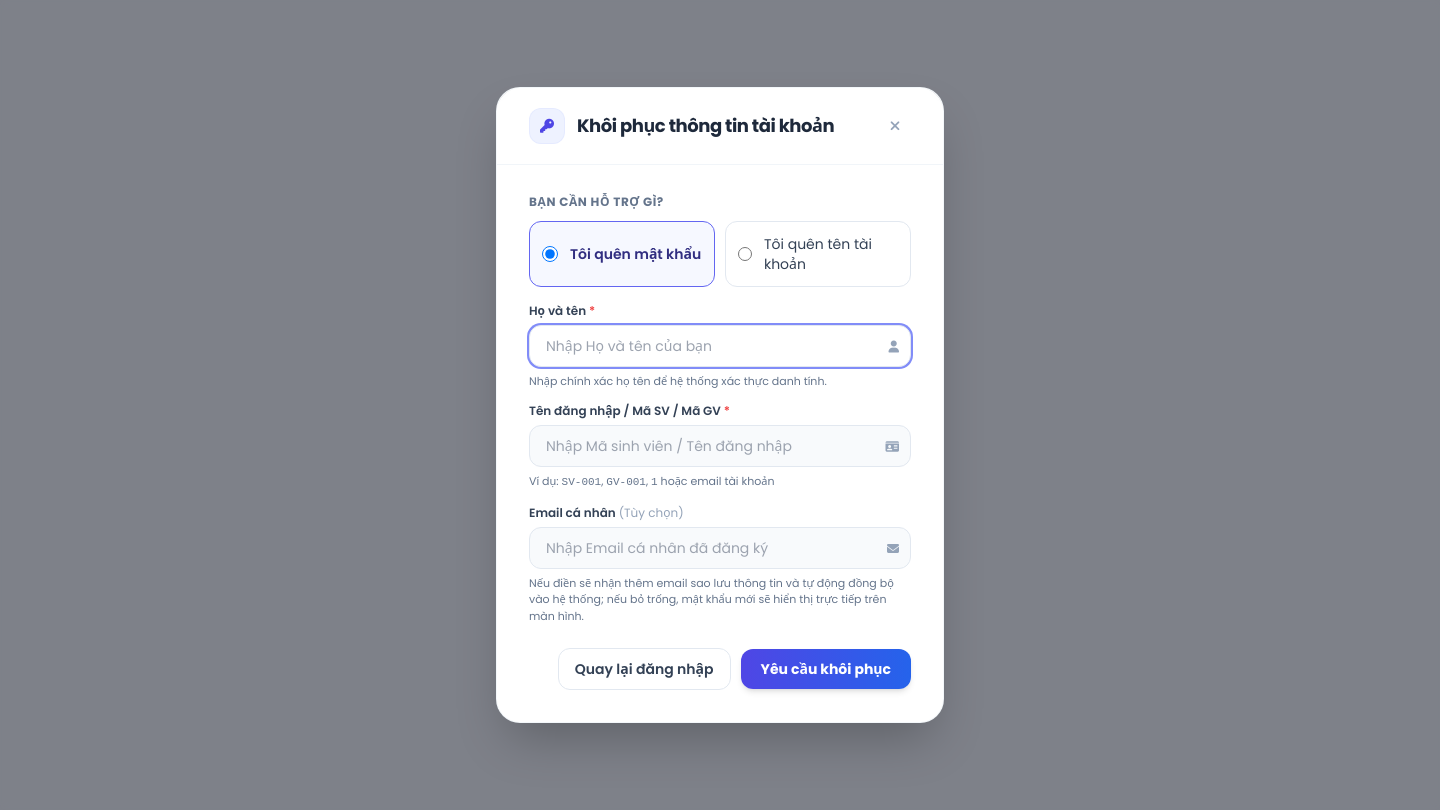
Test: ForgotPasswordModal › handles "Tôi quên mật khẩu" submission KHÔNG nhập Email: shows direct notification and 123 password
Type "Nguyễn Văn An" into the field with placeholder "Nhập Họ và tên của bạn". click: (720, 346)
box: 529,325 -> 911,367
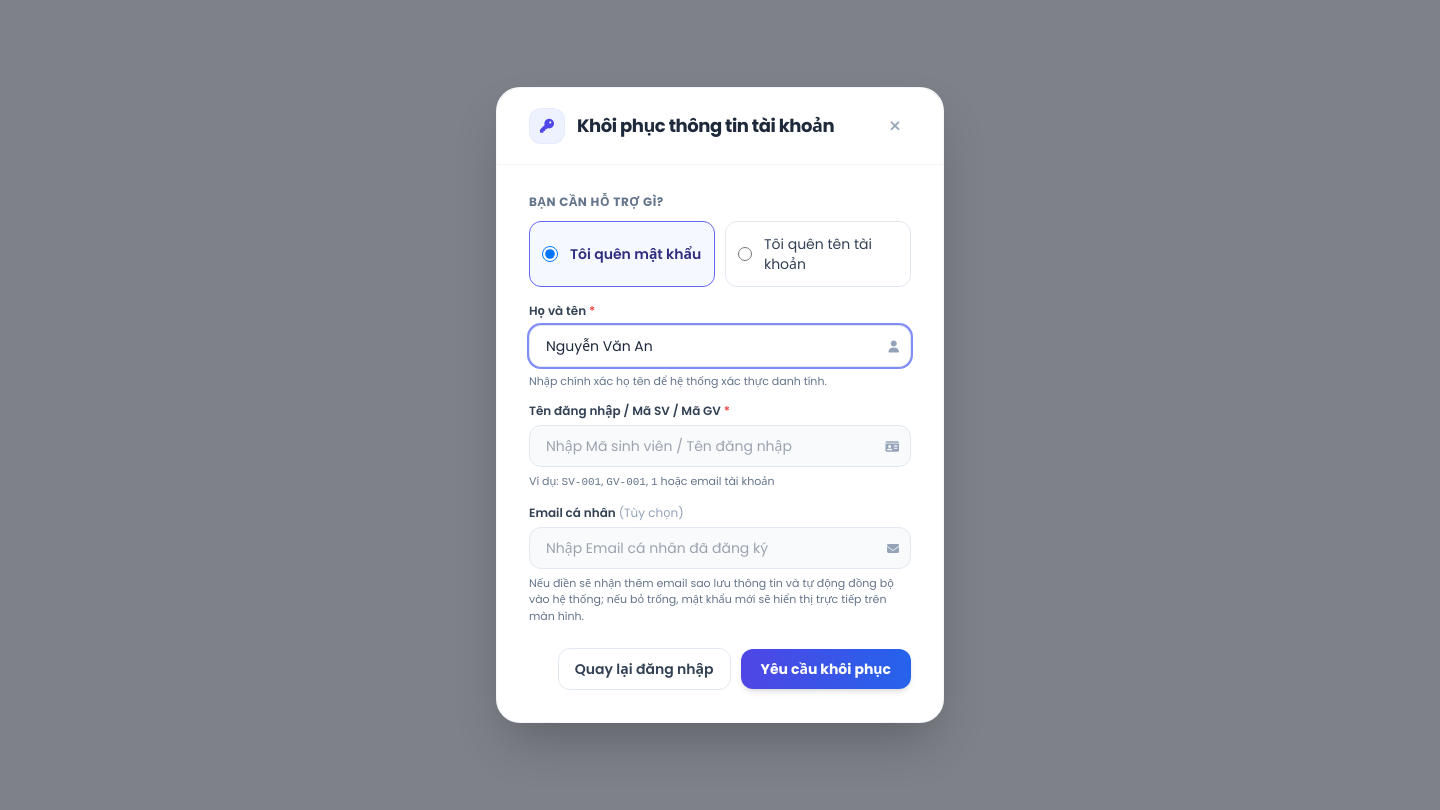
Type "SV-001" into the field with placeholder "Nhập Mã sinh viên / Tên đăng nhập". click: (720, 446)
box: 529,425 -> 911,467
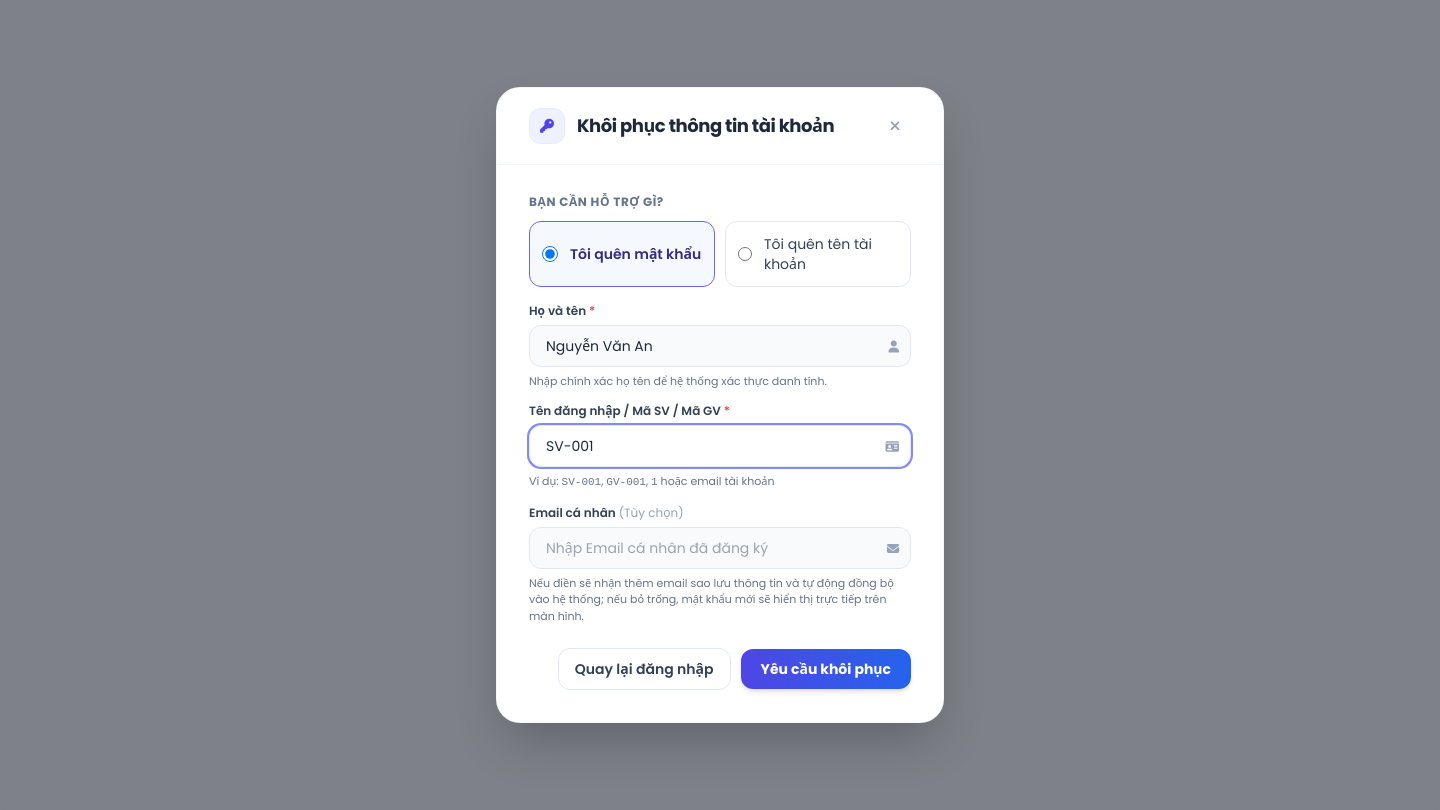
Click the button "Yêu cầu khôi phục". click: (826, 669)
box: 740,649 -> 911,689
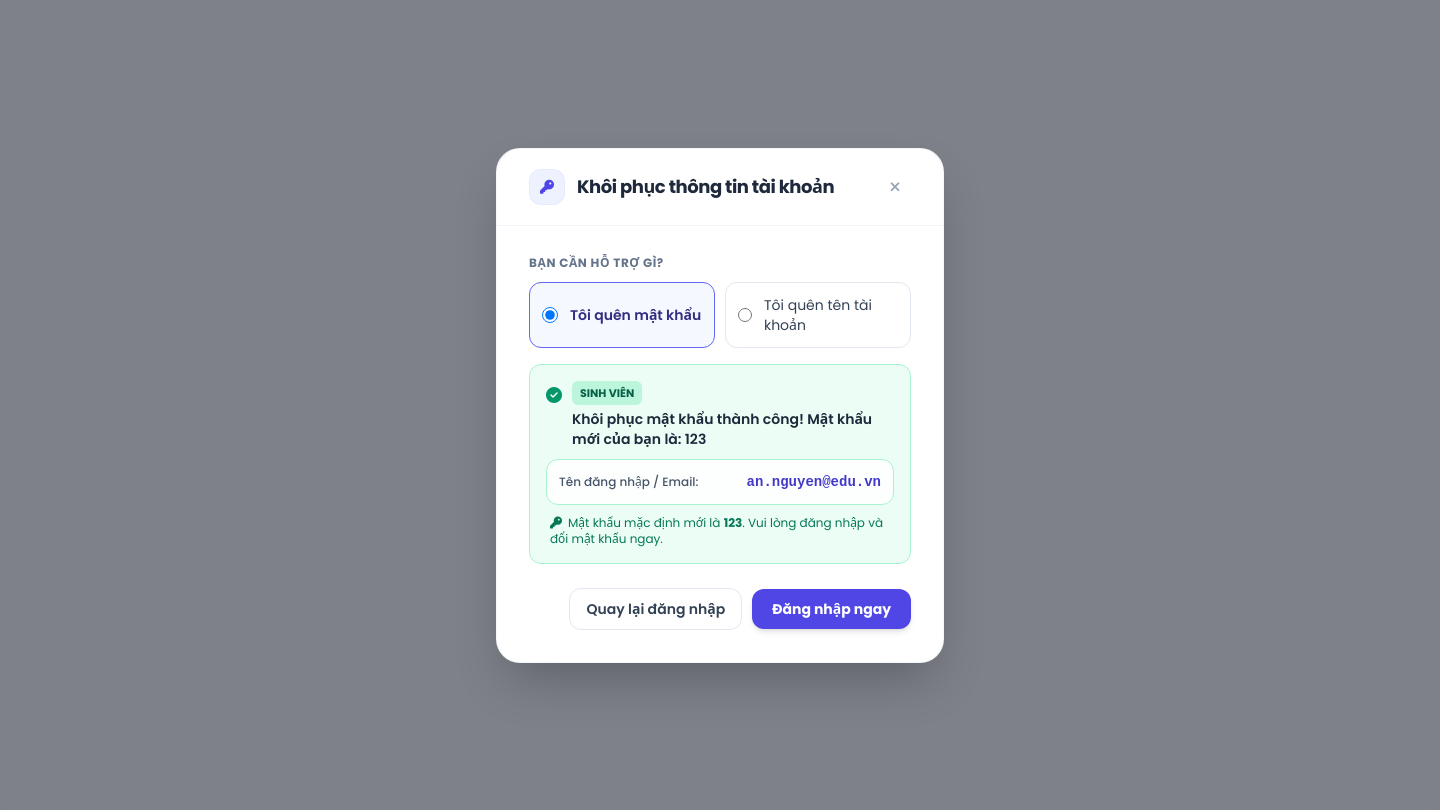
Result: the text "Khôi phục mật khẩu thành công! Mật khẩu mới của bạn là: 123" is shown at 572,408 -> 894,448
